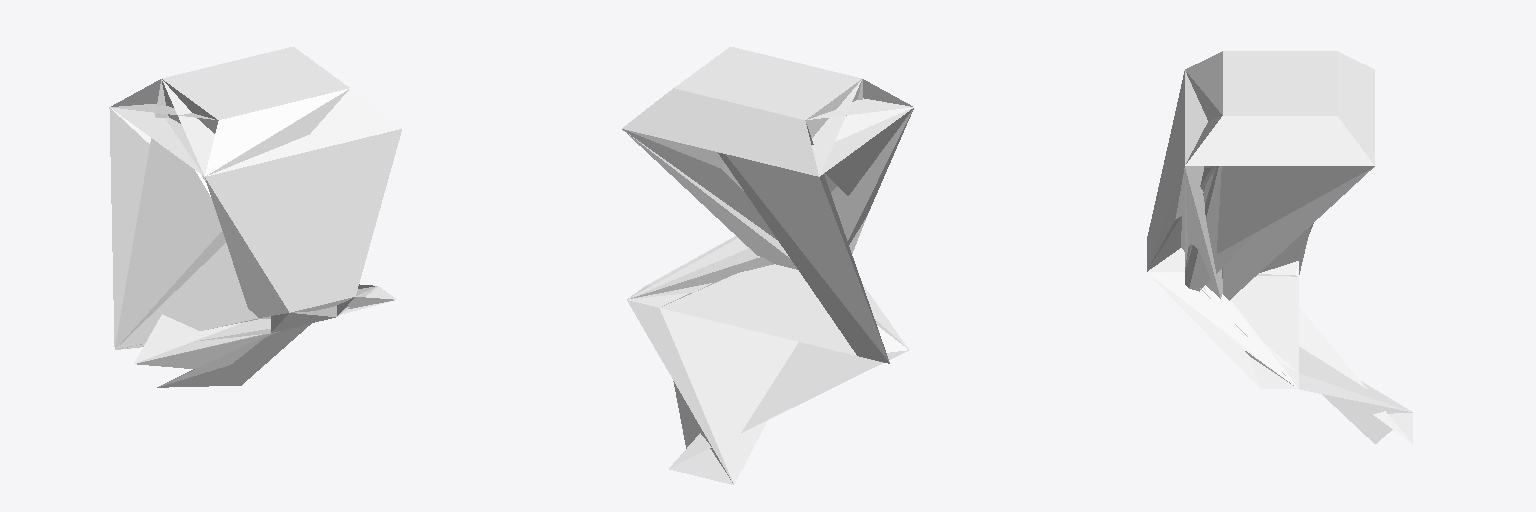
Rendered from penguin.obj.
3 views of the same model, side by side, from view 1: azimuth 30°, elevation 25°; view 2: azimuth 150°, elevation 25°; view 3: azimuth 270°, elevation 25° (orthographic).
Bounding box in the file's own units: 8 × 10 × 7.